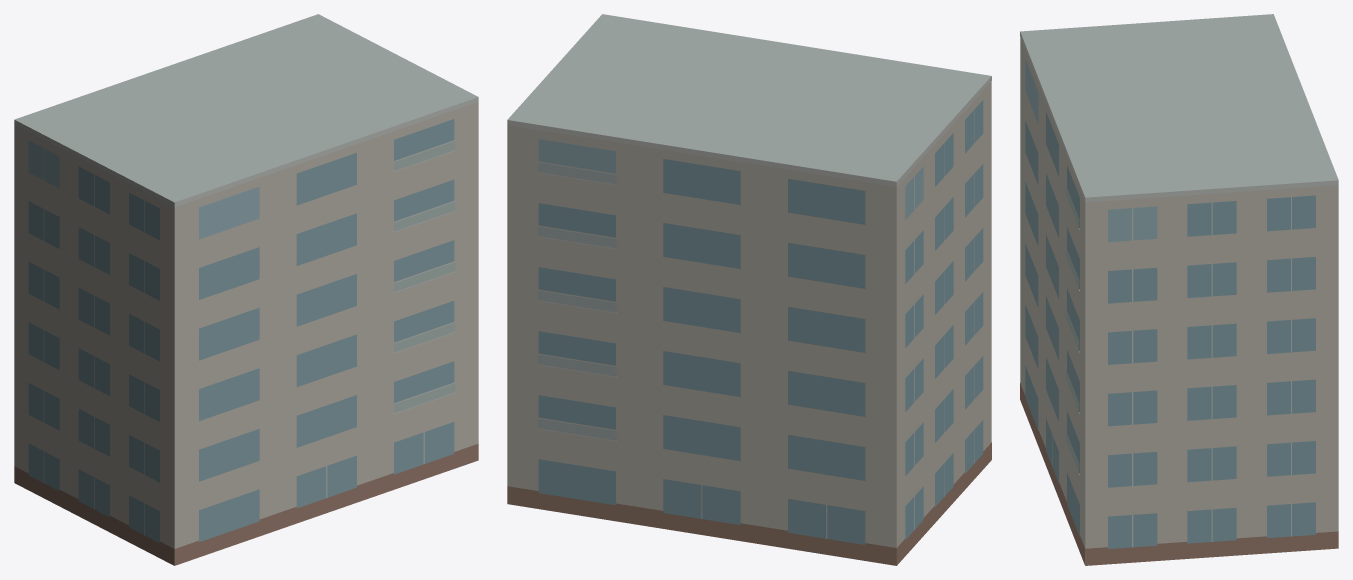
Rendered from survey-upis-32576147.glb.
The picture shows the model from 3 angles, left to right: view 1: azimuth 30°, elevation 25°; view 2: azimuth 150°, elevation 25°; view 3: azimuth 270°, elevation 25°; orthographic projection. The views are drawn at different scales.
Visible parts, largest first — view 1: survey-upis-32576147.tmp; view 2: survey-upis-32576147.tmp; view 3: survey-upis-32576147.tmp.
Part boxes in pixels (x1,y1,x2,y2): survey-upis-32576147.tmp: (14, 14, 478, 565); survey-upis-32576147.tmp: (507, 14, 991, 565); survey-upis-32576147.tmp: (1020, 14, 1338, 565).
Size of the model in its own units: 19.59 by 18.3 by 14.36.
